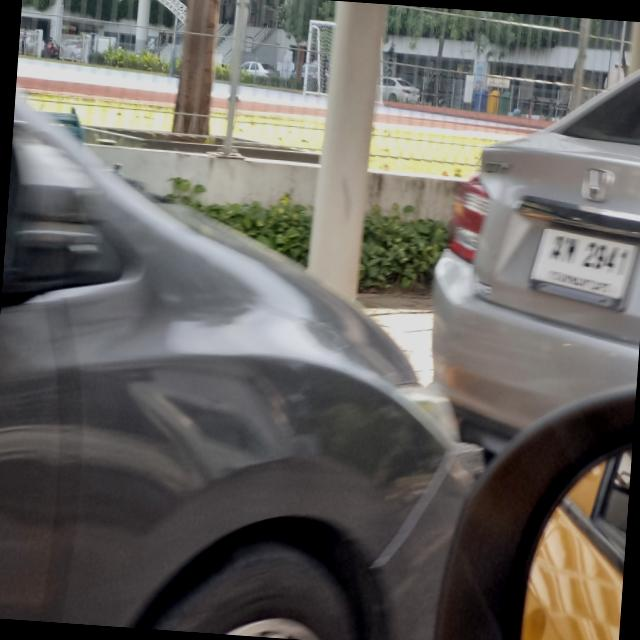license_plate: (529, 215, 640, 312)
